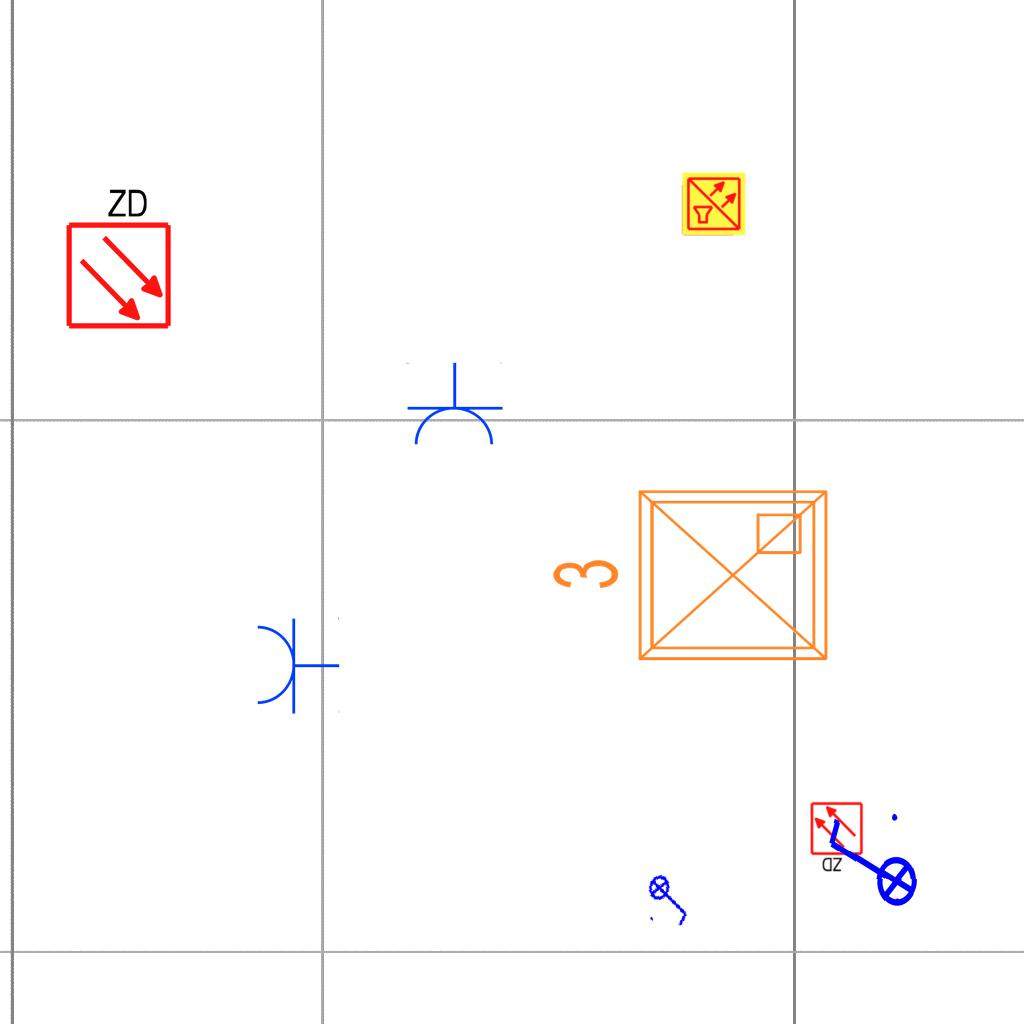Ausschalter_beleuchtet: (820, 807, 920, 923), (640, 866, 700, 932)
Einbaudownlights_LED_Konferenzraeume: (542, 475, 842, 683)
OKW_Multisensormelder_(Kombination_optischer_Rauch-Kahlenmonoxid_Waerme-Melder): (681, 171, 747, 237)
Schukosteckdose_einfach: (404, 362, 504, 449), (253, 615, 340, 715)
ZD_Melder_in_Zwischendecke_mit_Revisionsoeffnung_mind_40_x_40_cm: (60, 182, 174, 331), (809, 801, 866, 875)
